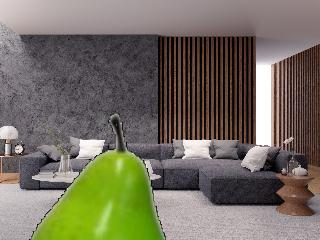pear: (30, 114, 168, 240)
